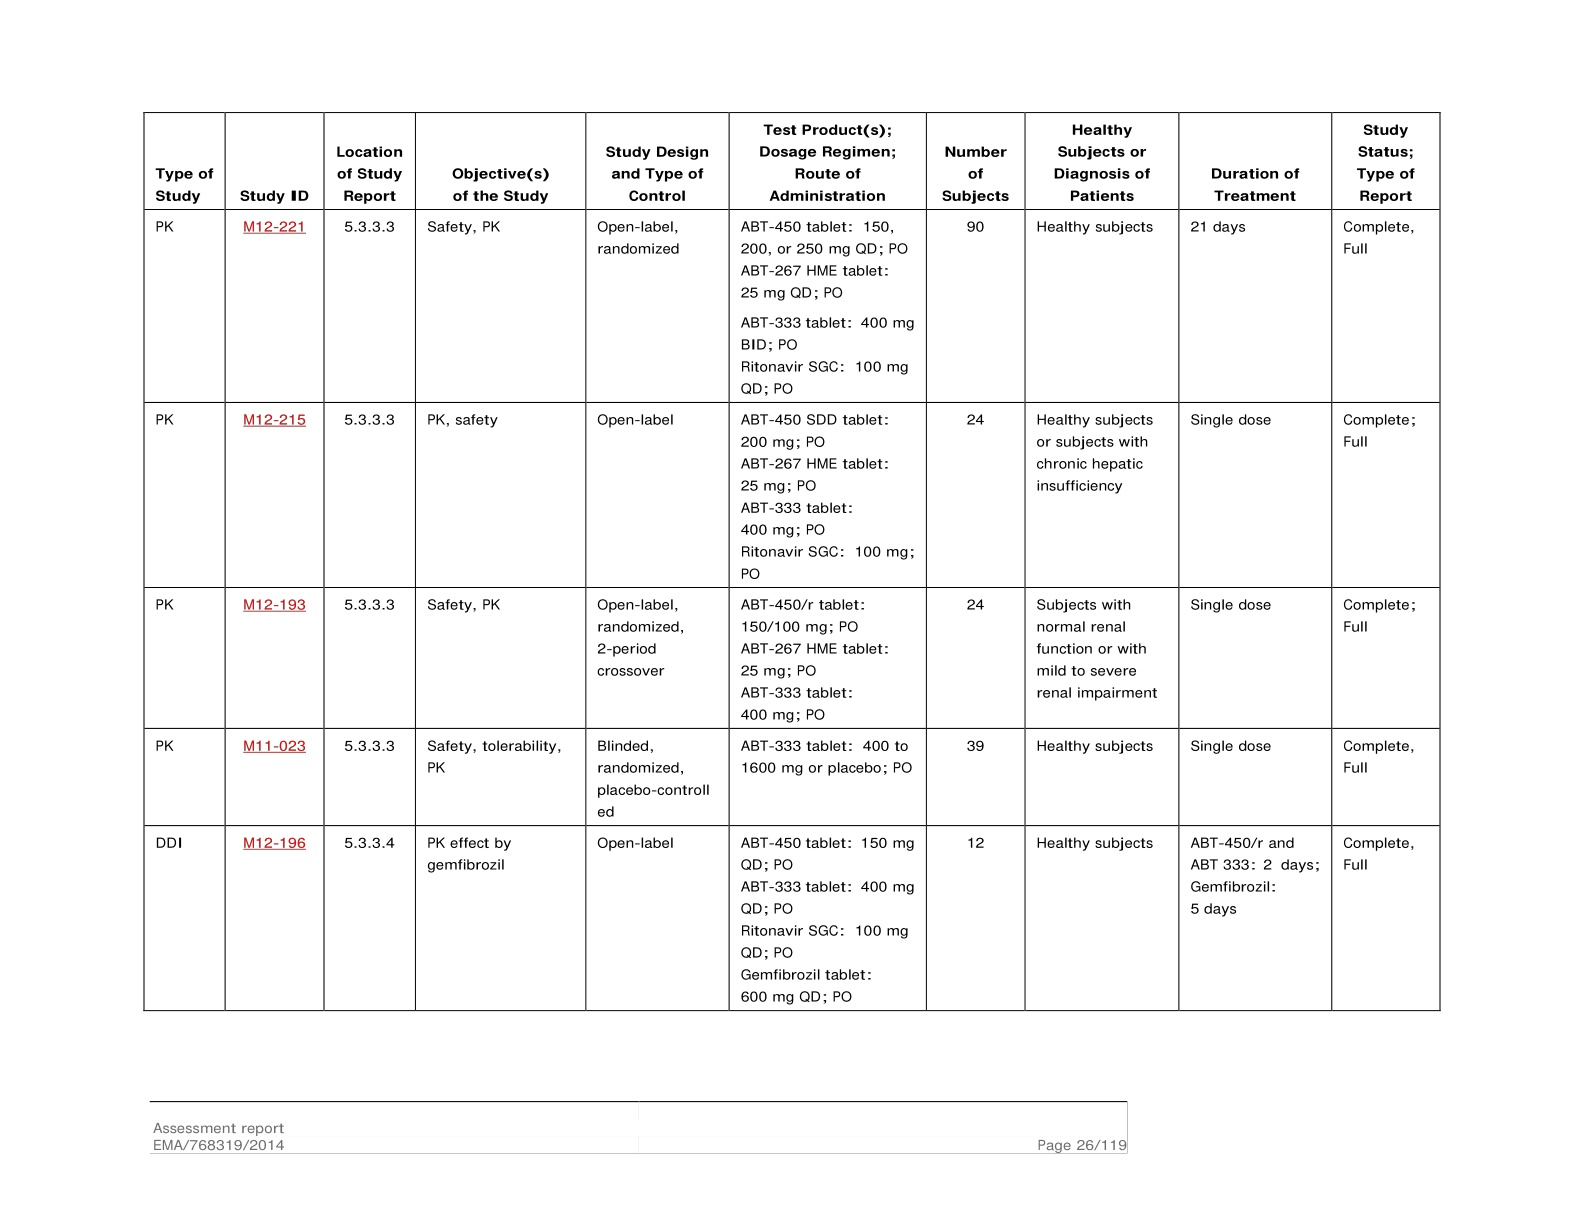full_lined: (141, 112, 1441, 1012)
